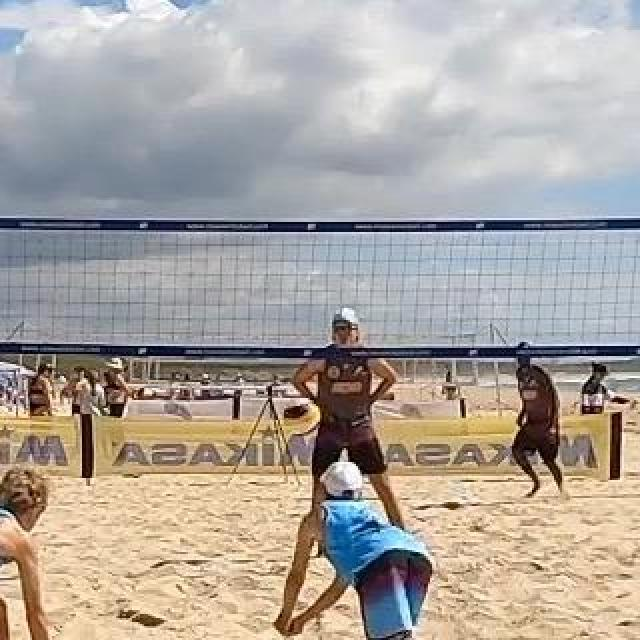volleyball: (282, 397, 322, 437)
